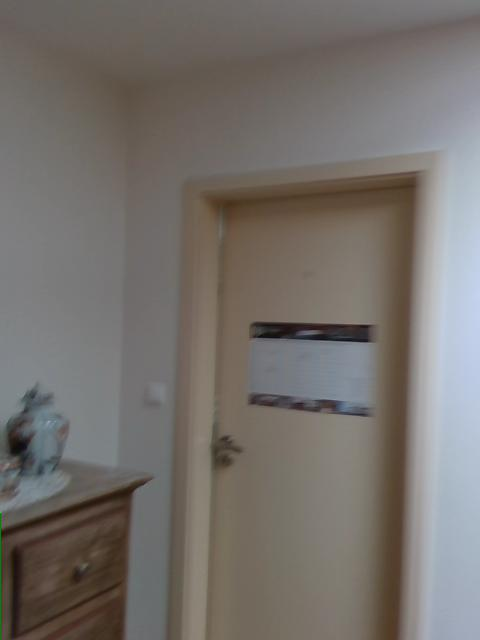door: (204, 186, 413, 639)
